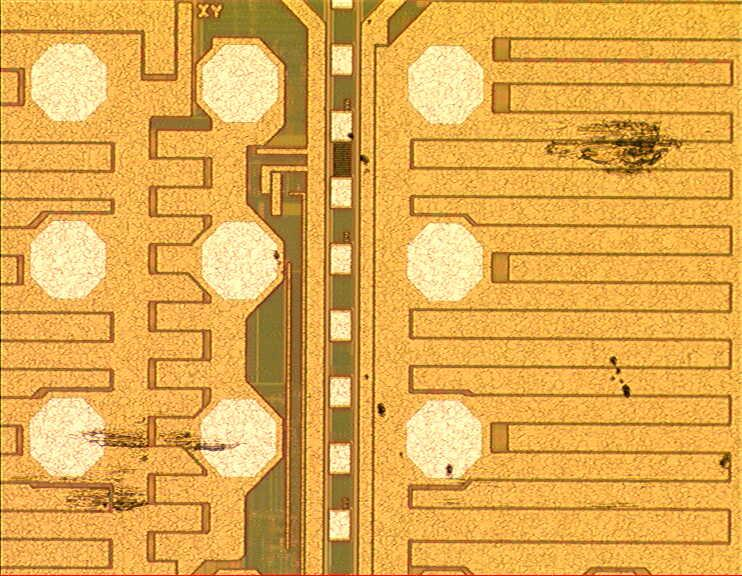SCRATCH: (19, 121, 685, 515)
